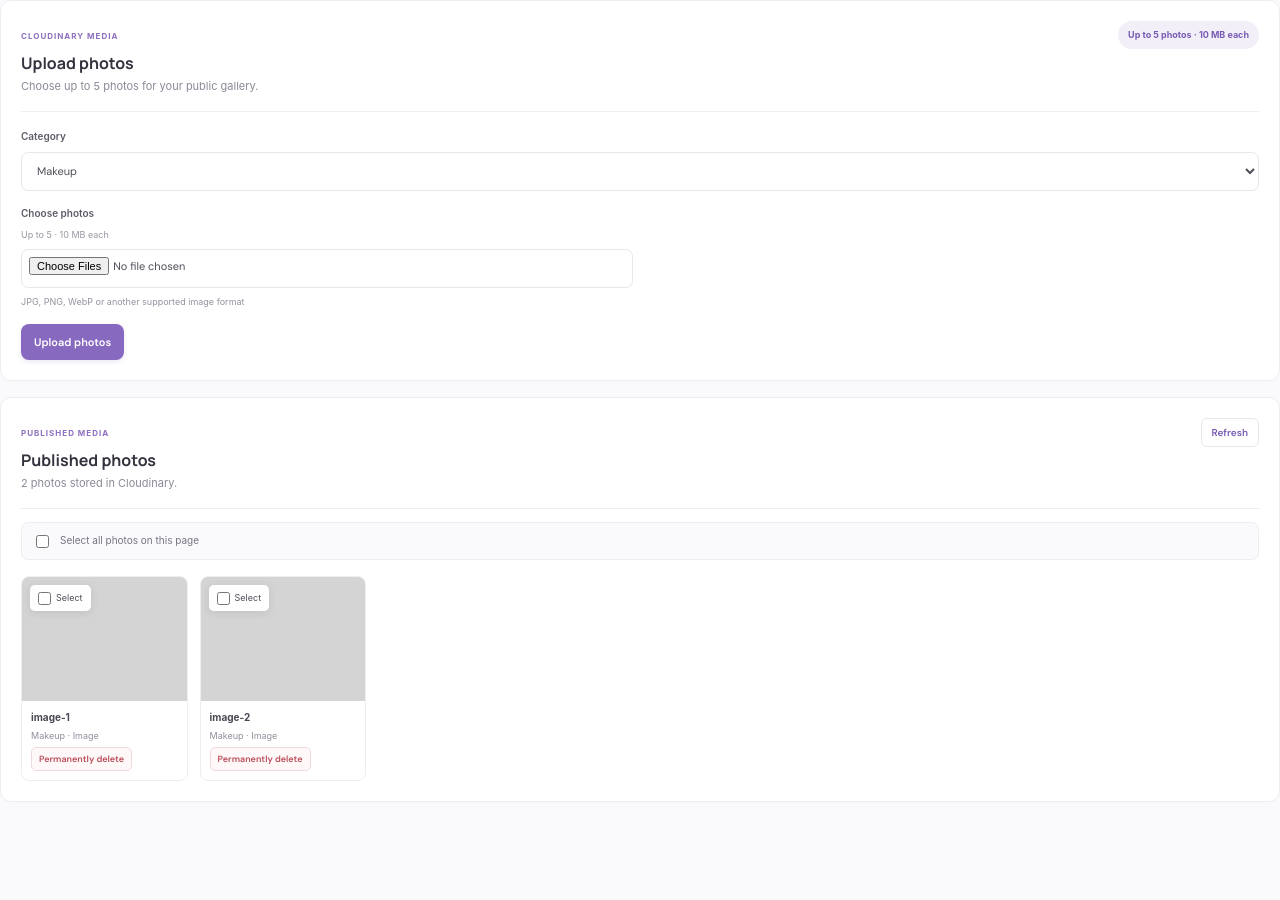
Scenario: bulk deletes selected photos after confirmation
The image size is (1280, 900).
Expected: the text "image-1" is shown, top-left (31, 711), bottom-right (70, 723)
Click the checkbox labelled "Select all photos on this page" at (42, 541), box top-left (36, 535), bottom-right (49, 548)
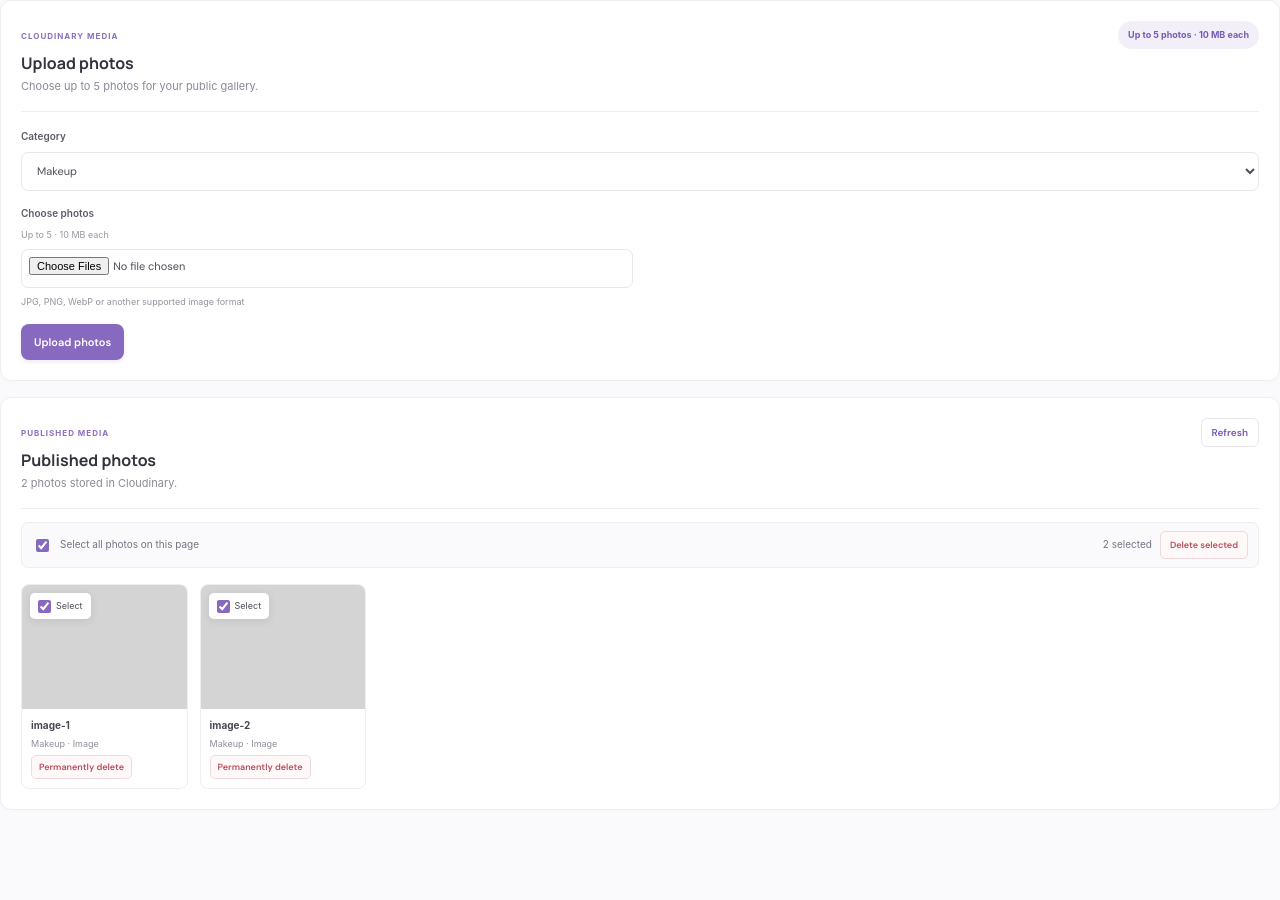
Click the button "Delete selected" at (1204, 545), box top-left (1160, 531), bottom-right (1248, 559)
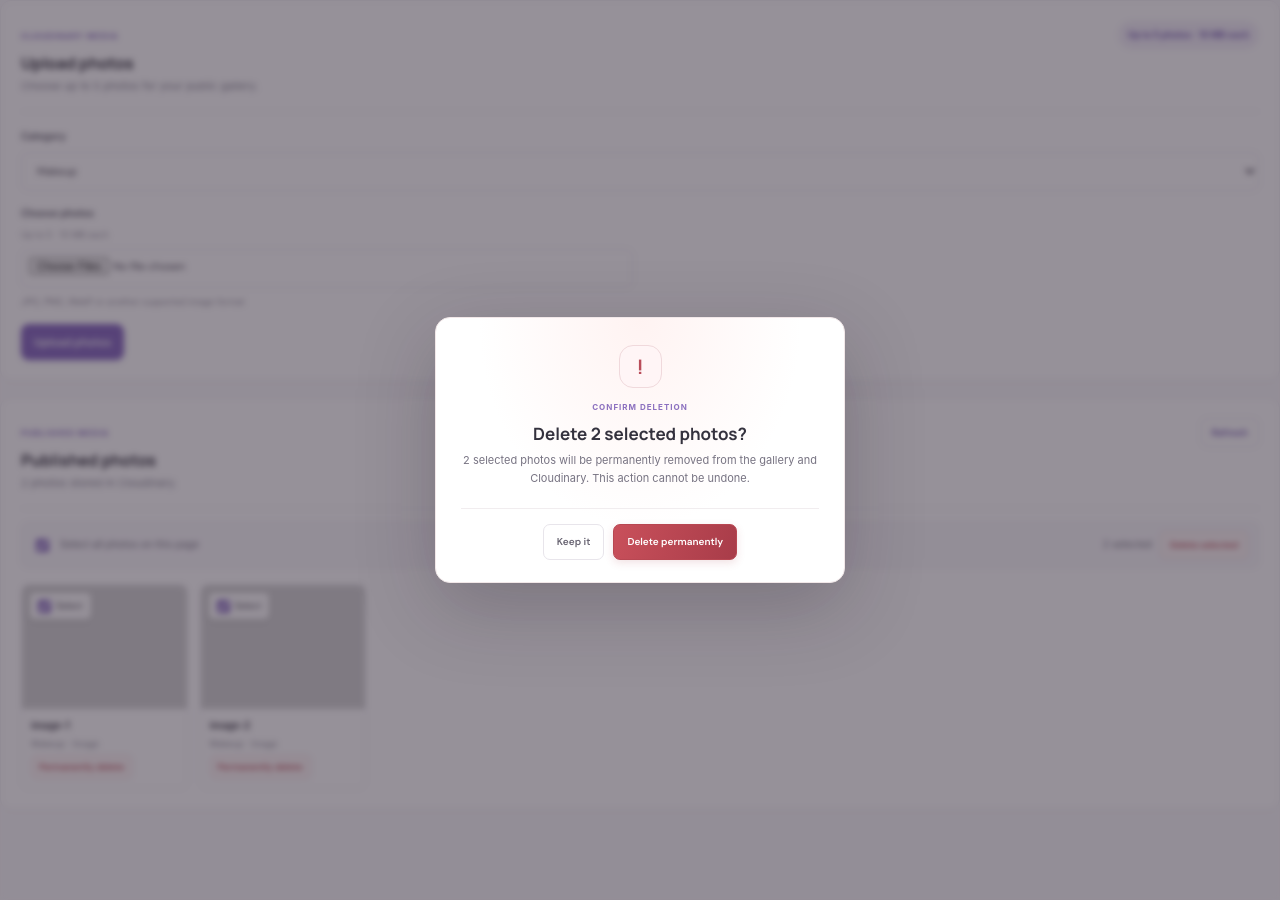
Result: the dialog "Delete 2 selected photos?" is shown at top-left (435, 317), bottom-right (845, 583)
Click the button "Delete permanently" at (675, 542), box top-left (613, 524), bottom-right (737, 560)
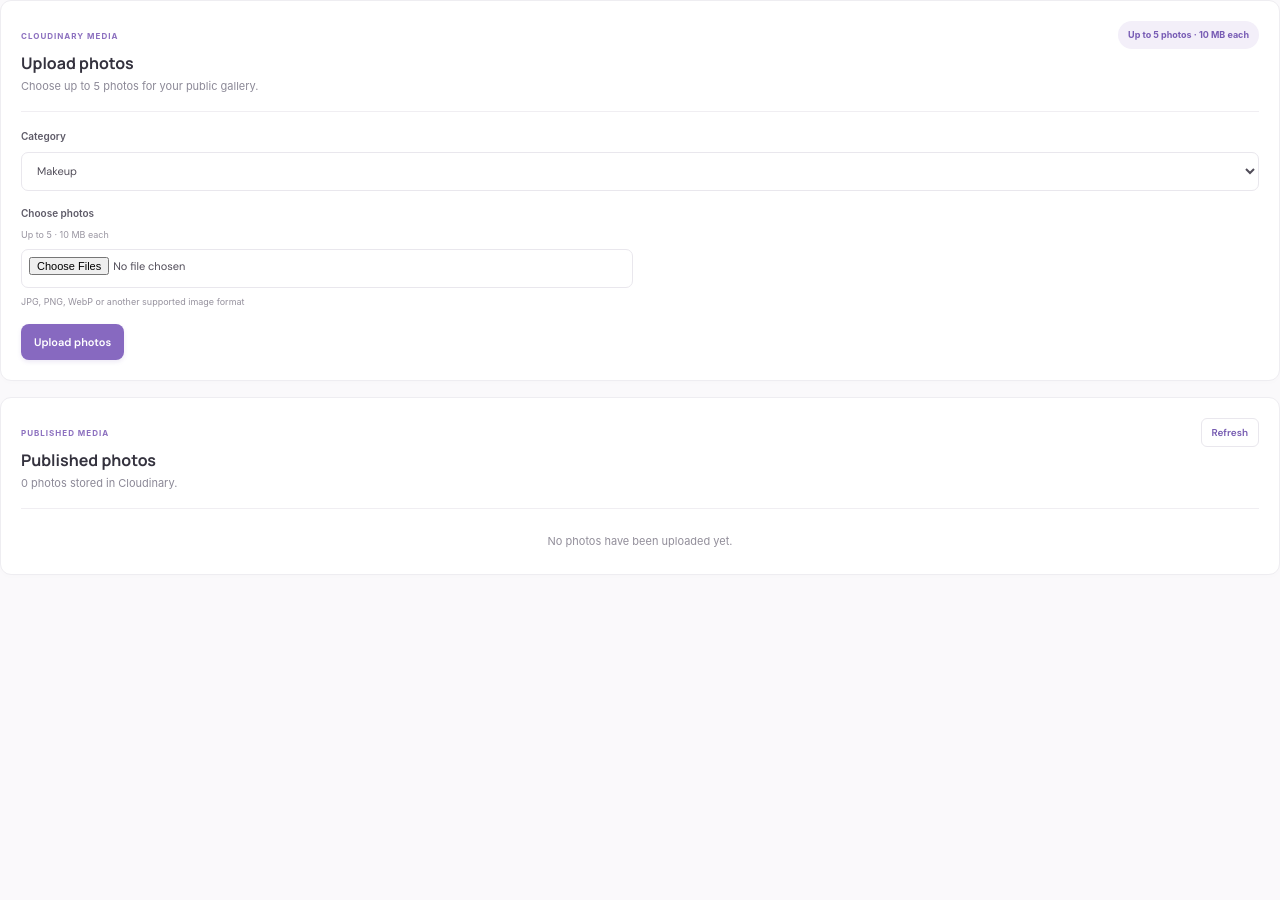
Result: the text "image-1" is gone
Result: the text "image-2" is gone
